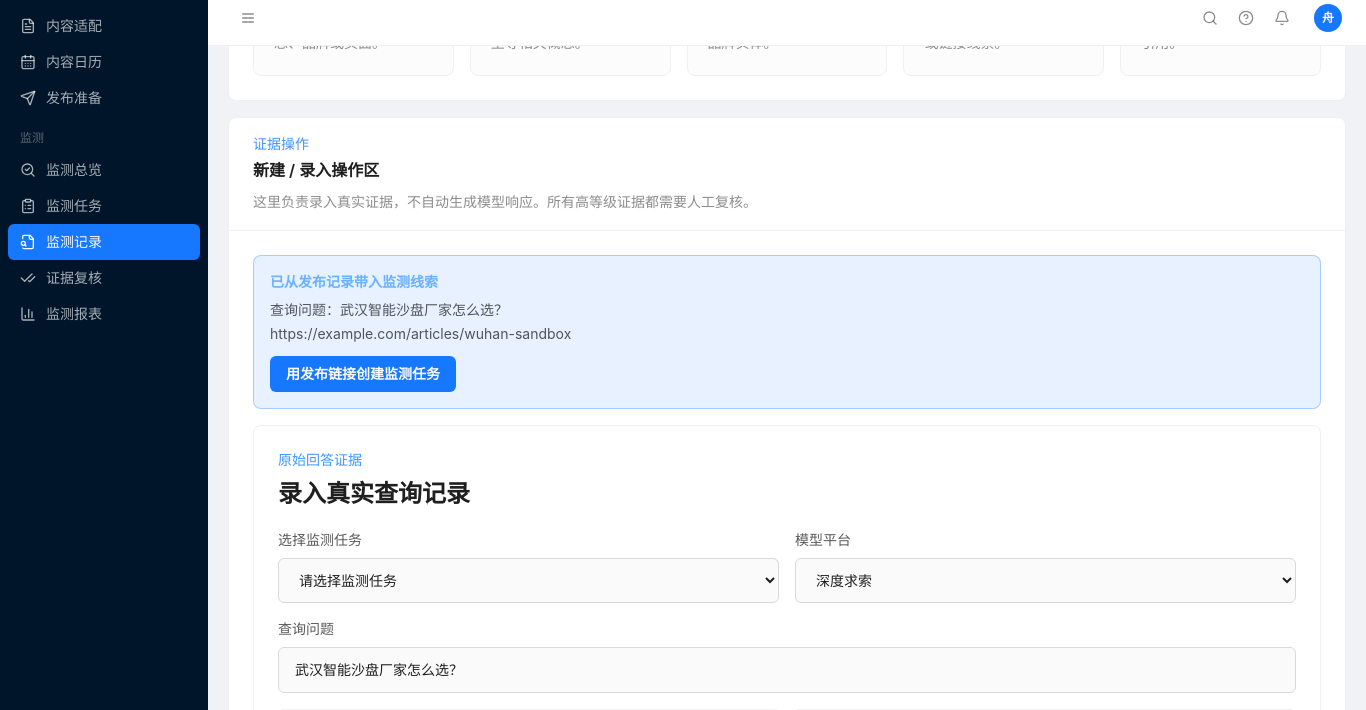
Test case: P2.0 GEO monitor entry UI › creates a monitor session from published record leads
This screenshot has width=1366, height=710.
(page scrolled)
What coordinates should you click on to do the following:
click the button "用发布链接创建监测任务"
I would click on:
 (363, 374)
Its box is [270,356,456,392].
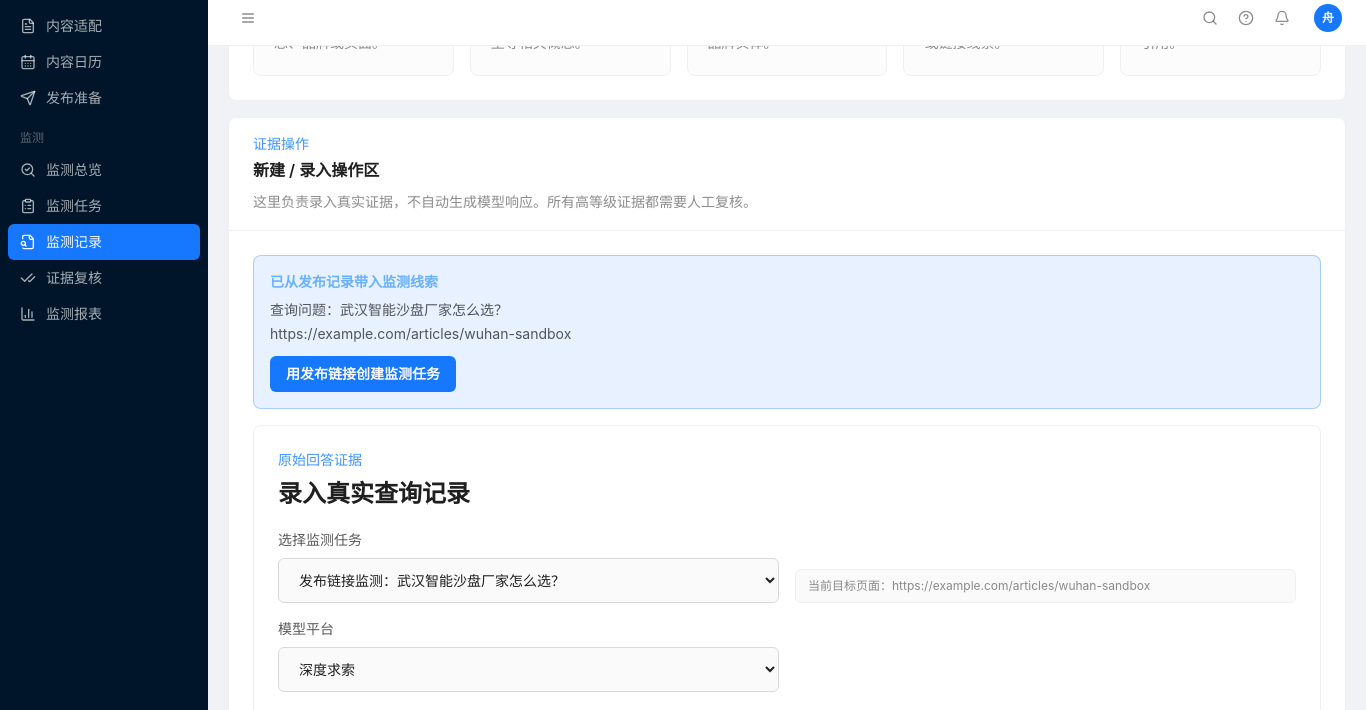
Result: the dropdown labelled "选择监测任务" shows "发布链接监测：武汉智能沙盘厂家怎么选？" at [278,558,779,603]
